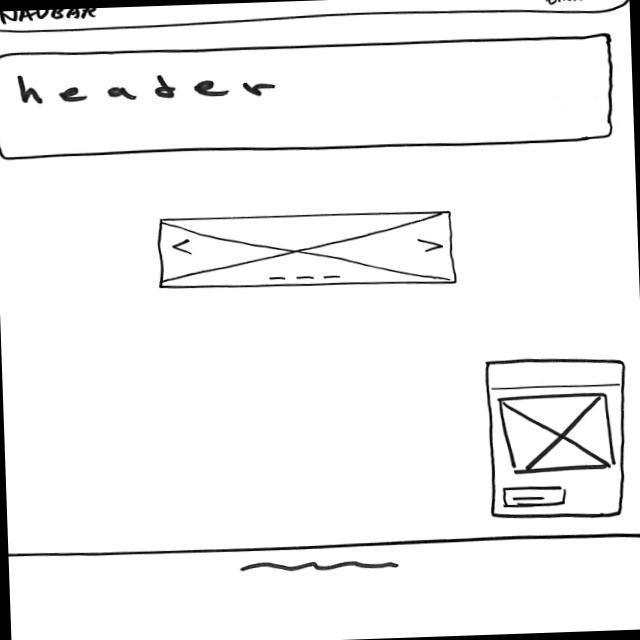container: (1, 31, 617, 163), (484, 356, 633, 523), (1, 1, 630, 35)
icon-button: (499, 483, 569, 510)
image: (154, 206, 458, 296), (499, 393, 619, 476)
label: (12, 65, 281, 107), (1, 9, 102, 26), (544, 1, 587, 5)
text: (231, 557, 406, 578)
